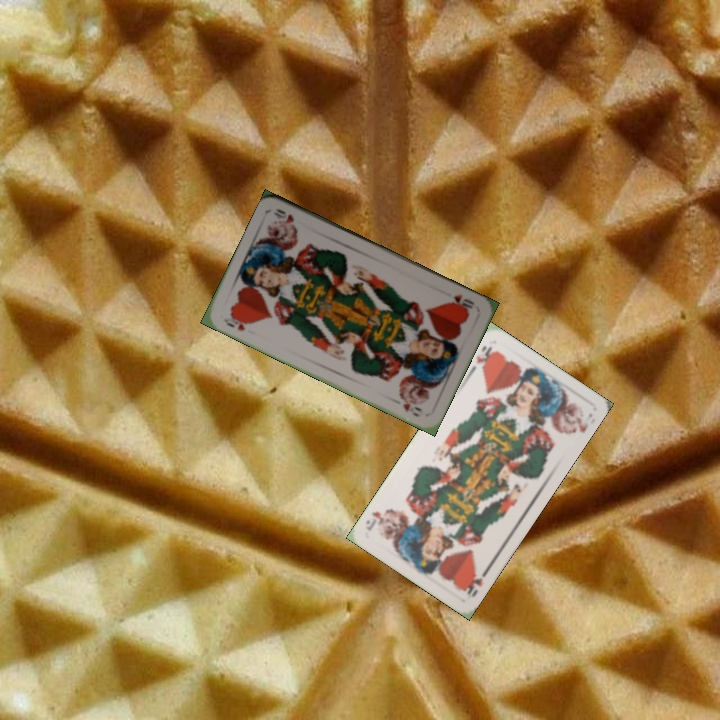HO: (466, 341, 499, 376), (460, 564, 492, 600), (219, 311, 254, 334), (448, 290, 477, 313)
